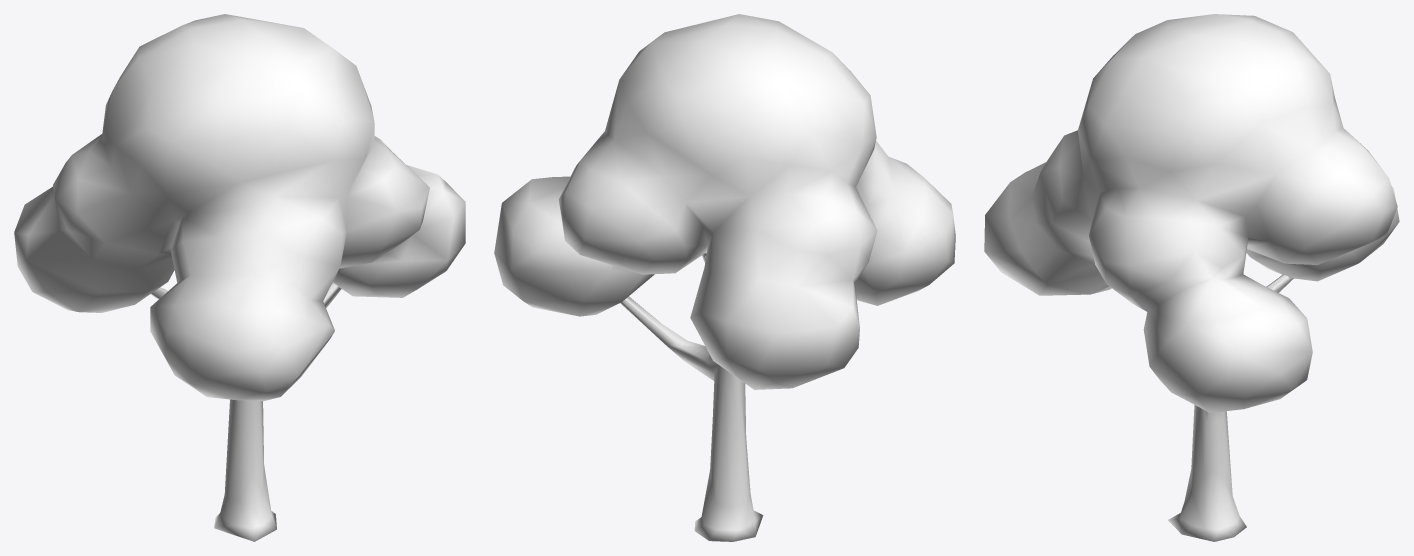
Rendered from tree-bushy.glb.
The picture shows the model from 3 angles, left to right: view 1: azimuth 30°, elevation 25°; view 2: azimuth 150°, elevation 25°; view 3: azimuth 270°, elevation 25°; orthographic projection.
Visible parts, largest first — view 1: Cylinder.001; view 2: Cylinder.001; view 3: Cylinder.001.
Boxes of the visible parts, <box> form: Cylinder.001: <box>14,14,465,541</box>; Cylinder.001: <box>494,14,955,541</box>; Cylinder.001: <box>984,14,1399,541</box>.
Size of the model in its own units: 3.92 by 4.68 by 3.57.
1 material, 1 textured.
